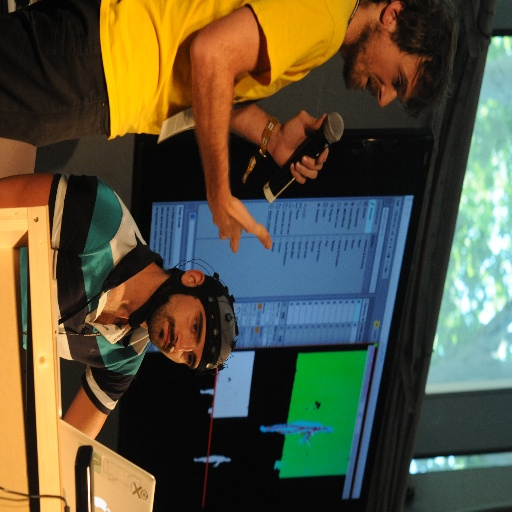hand: (200, 167, 266, 250), (272, 112, 330, 187)
